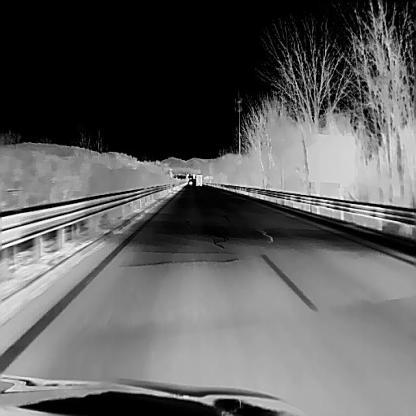car: (195, 173, 201, 186)
